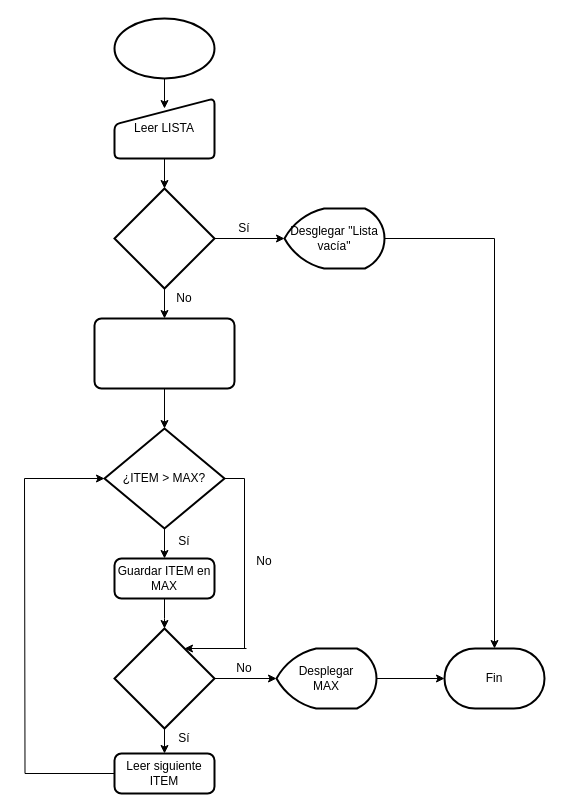
Some shapes in this 563 by 811 pixel diagram are drawn without their labels. The shapes that lost their labels are listed below. From the top down, each one's centre as x and y in pixels, then its label:
At [164,48]: "Inicio".
At [164,238]: "¿LISTA vacía?".
At [164,353]: "Leer primer ITEM de LISTA y guardar valor en MAX".
At [164,678]: "¿Quedan items en LISTA?".
